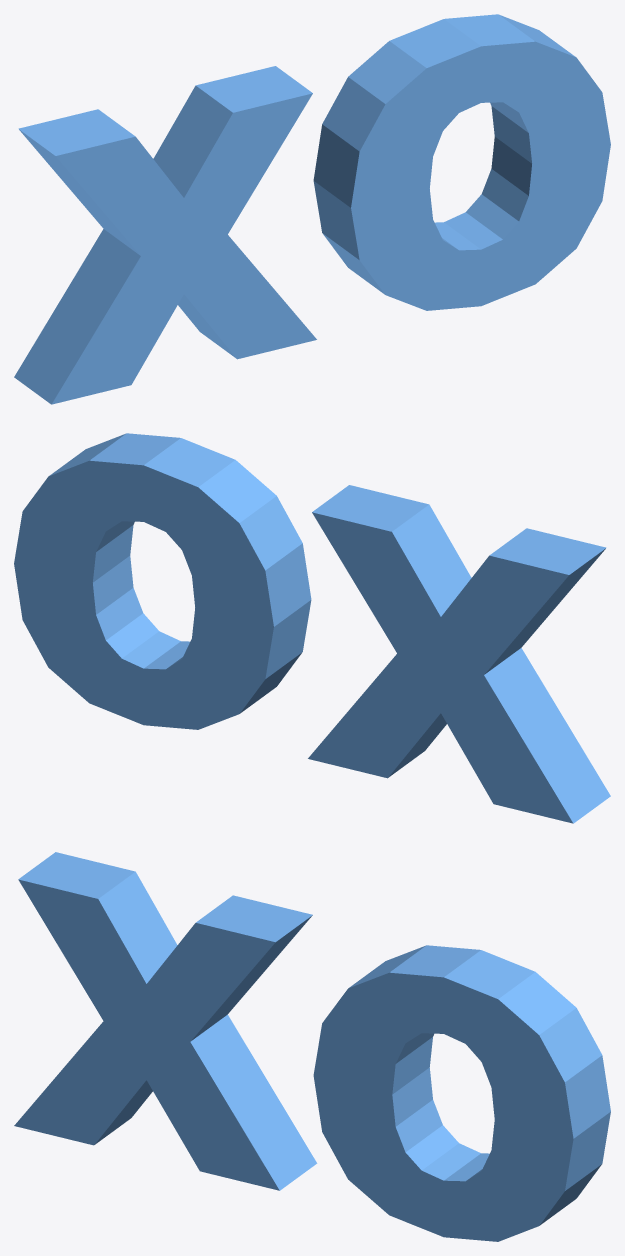
The model's file is suku_kecil_xo.glb.
3 renders of one model, top to bottom at view 1: azimuth 30°, elevation 25°; view 2: azimuth 150°, elevation 25°; view 3: azimuth 330°, elevation 25°, orthographic.
Visible parts, largest first — view 1: geometry_0; view 2: geometry_0; view 3: geometry_0.
Boxes of the visible parts, box(x1,y1,x2,y2) form: geometry_0: box(14, 14, 610, 404); geometry_0: box(14, 433, 610, 823); geometry_0: box(14, 852, 610, 1241).
Bounding box in the file's own units: 12.94 × 5.74 × 1.5.
